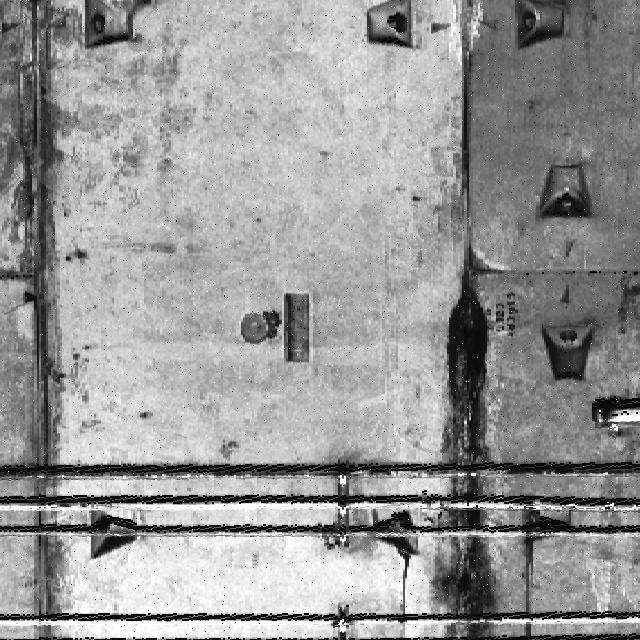leakage: (414, 241, 506, 639)
